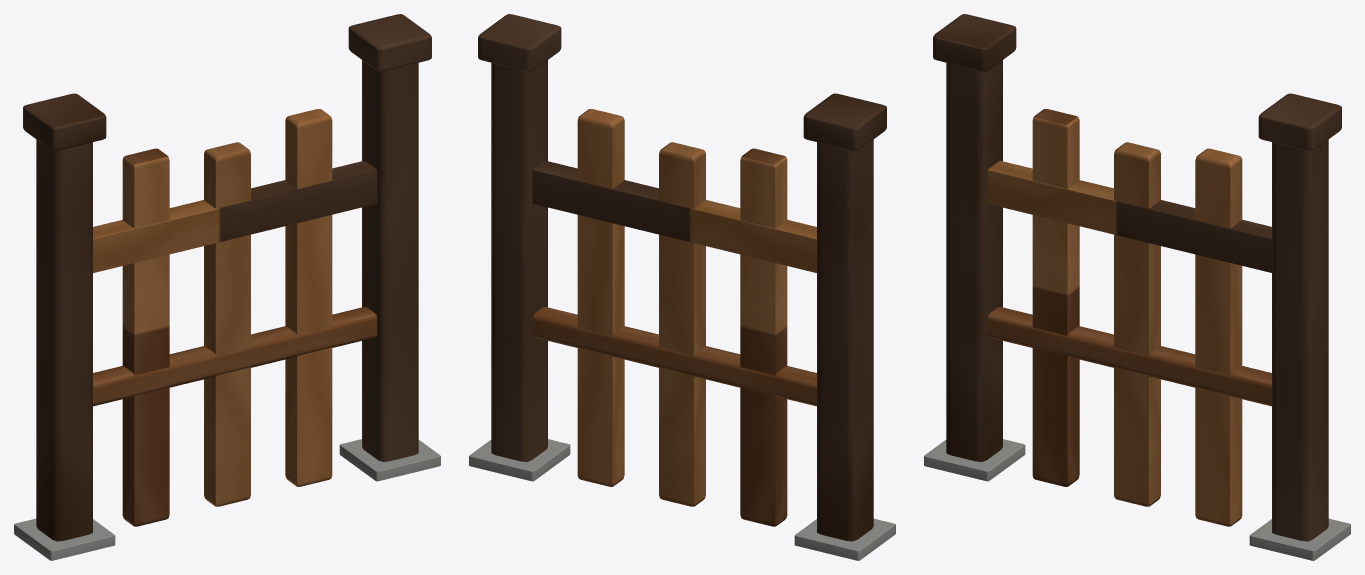
The model's file is fence_straight_1m_v6.glb.
3 renders of one model, left to right at view 1: azimuth 30°, elevation 25°; view 2: azimuth 150°, elevation 25°; view 3: azimuth 330°, elevation 25°, orthographic.
Visible parts, largest first — view 1: Posts_Post, Posts_Post.001, Pickets_Picket, Pickets_Picket.002, Pickets_Picket.001, Rails_Rail.001, Rails_Rail, Posts_Cap, Posts_Cap.001, Posts_Footing.001, Posts_Footing; view 2: Posts_Post, Posts_Post.001, Pickets_Picket, Pickets_Picket.002, Pickets_Picket.001, Rails_Rail.001, Rails_Rail, Posts_Cap, Posts_Cap.001, Posts_Footing.001, Posts_Footing; view 3: Posts_Post.001, Posts_Post, Pickets_Picket.002, Pickets_Picket, Pickets_Picket.001, Rails_Rail.001, Rails_Rail, Posts_Cap, Posts_Cap.001, Posts_Footing, Posts_Footing.001.
Part boxes in pixels (x1=…): Posts_Post: x1=36, y1=139, x2=92, y2=541; Posts_Post.001: x1=362, y1=60, x2=418, y2=461; Pickets_Picket: x1=122, y1=148, x2=169, y2=526; Pickets_Picket.002: x1=285, y1=109, x2=332, y2=486; Pickets_Picket.001: x1=204, y1=142, x2=250, y2=506; Rails_Rail.001: x1=93, y1=160, x2=377, y2=272; Rails_Rail: x1=93, y1=307, x2=377, y2=406; Posts_Cap: x1=23, y1=93, x2=106, y2=150; Posts_Cap.001: x1=348, y1=14, x2=431, y2=71; Posts_Footing.001: x1=339, y1=439, x2=440, y2=481; Posts_Footing: x1=14, y1=518, x2=115, y2=560; Posts_Post: x1=817, y1=139, x2=873, y2=541; Posts_Post.001: x1=491, y1=60, x2=547, y2=461; Pickets_Picket: x1=740, y1=148, x2=787, y2=526; Pickets_Picket.002: x1=577, y1=109, x2=624, y2=486; Pickets_Picket.001: x1=659, y1=142, x2=705, y2=506; Rails_Rail.001: x1=532, y1=160, x2=816, y2=272; Rails_Rail: x1=532, y1=307, x2=816, y2=406; Posts_Cap: x1=803, y1=93, x2=886, y2=151; Posts_Cap.001: x1=478, y1=14, x2=561, y2=71; Posts_Footing.001: x1=469, y1=439, x2=570, y2=481; Posts_Footing: x1=794, y1=518, x2=895, y2=560; Posts_Post.001: x1=1272, y1=139, x2=1328, y2=541; Posts_Post: x1=946, y1=60, x2=1002, y2=461; Pickets_Picket.002: x1=1195, y1=148, x2=1242, y2=526; Pickets_Picket: x1=1032, y1=109, x2=1079, y2=486; Pickets_Picket.001: x1=1114, y1=142, x2=1160, y2=506; Rails_Rail.001: x1=987, y1=160, x2=1271, y2=272; Rails_Rail: x1=987, y1=307, x2=1271, y2=406; Posts_Cap: x1=933, y1=14, x2=1016, y2=71; Posts_Cap.001: x1=1258, y1=93, x2=1341, y2=150; Posts_Footing: x1=924, y1=439, x2=1025, y2=481; Posts_Footing.001: x1=1249, y1=518, x2=1350, y2=560.
Bounding box in the file's own units: 1.2 × 1.26 × 0.2.
3 materials, 3 textured.
